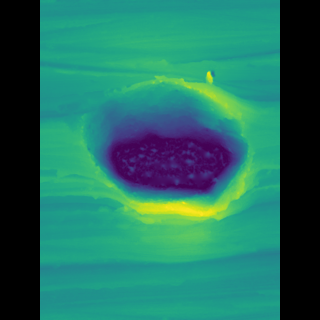Loch: (88, 74, 240, 235)
